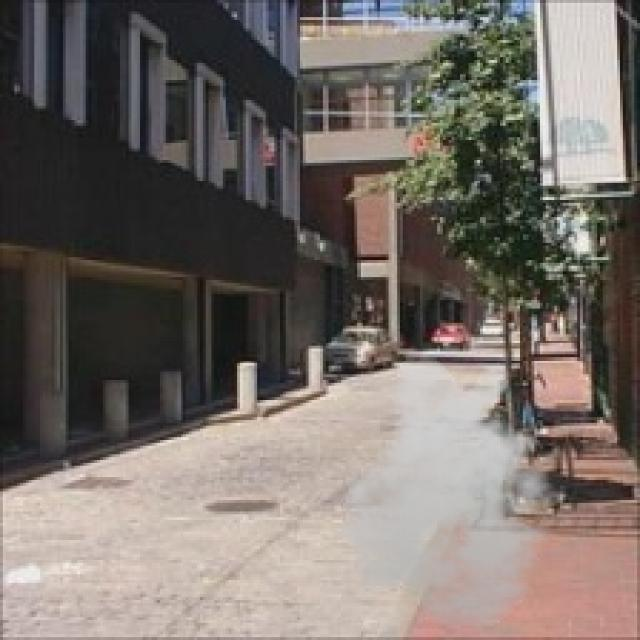Smoke: (328, 352, 578, 632)
